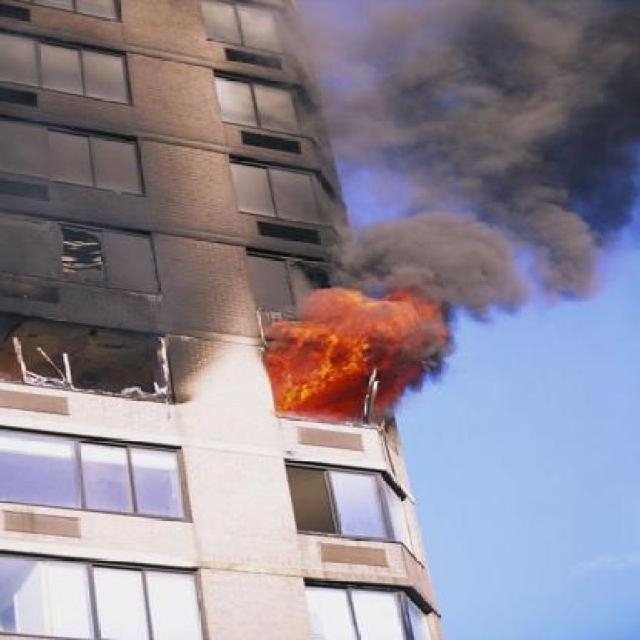Fire: (276, 286, 436, 416)
Smoke: (372, 2, 640, 287)
